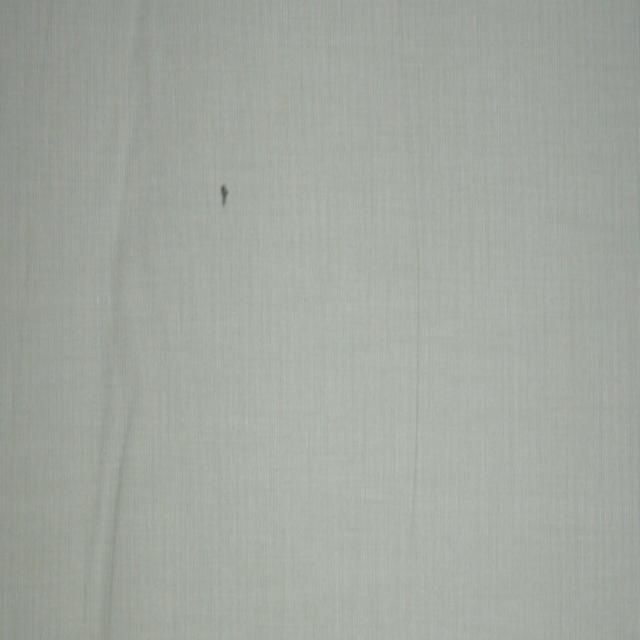dirty: (220, 183, 230, 206)
